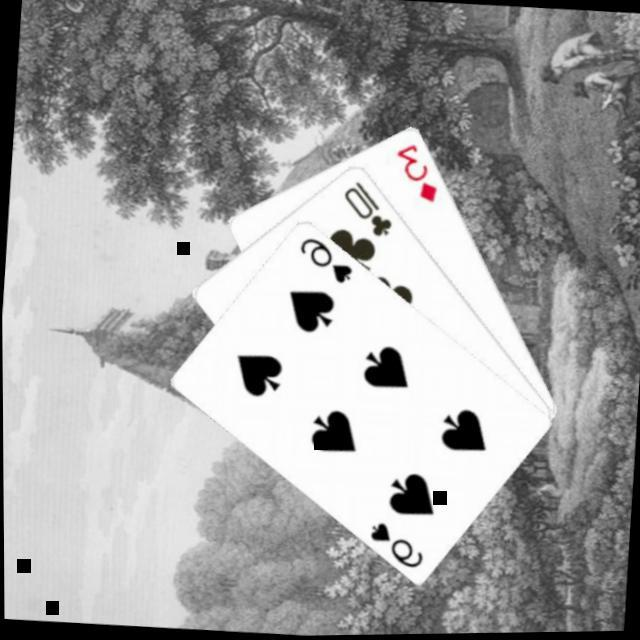10C: (335, 175, 396, 241)
3D: (388, 137, 442, 205)
6S: (362, 516, 427, 572), (292, 230, 356, 286)
